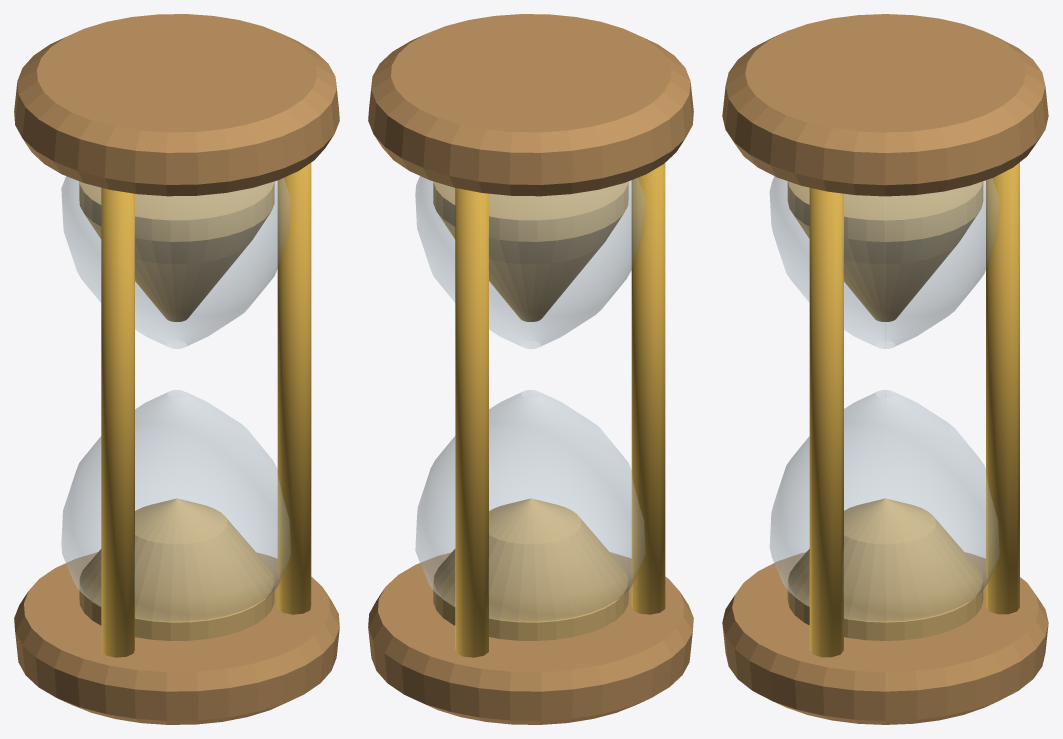
Rendered from hourglass.glb.
3 views of the same model, side by side, from view 1: azimuth 30°, elevation 25°; view 2: azimuth 150°, elevation 25°; view 3: azimuth 270°, elevation 25° (orthographic).
Visible parts, largest first — view 1: Hourglass; view 2: Hourglass; view 3: Hourglass.
Part boxes in pixels (x1,y1,x2,y2): Hourglass: (14, 14, 339, 724); Hourglass: (368, 14, 693, 724); Hourglass: (722, 14, 1048, 724).
Bounding box in the file's own units: 0.212 × 0.4246 × 0.212.
